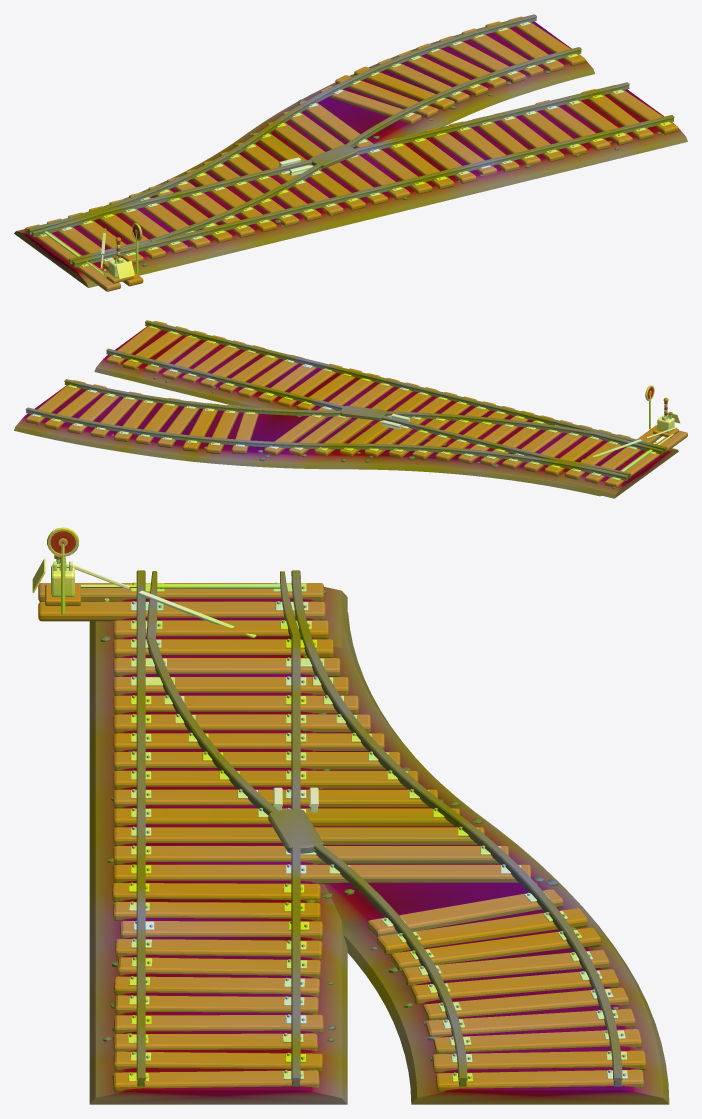
Rendered from Track_Switch_20m_B.fbx.
The picture shows the model from 3 angles, top to bottom: view 1: azimuth 30°, elevation 25°; view 2: azimuth 150°, elevation 25°; view 3: azimuth 270°, elevation 25°; orthographic projection. The views are drawn at different scales.
Visible parts, largest first — view 1: Track_Switch_20m_B, Blade_S; view 2: Track_Switch_20m_B, Blade_D, Broken_Bits; view 3: Track_Switch_20m_B, Broken_Bits, Switch_Target.
Boxes of the visible parts, x1,y1,x2,y2 form: Track_Switch_20m_B: [14, 14, 687, 291]; Blade_S: [32, 210, 105, 237]; Track_Switch_20m_B: [14, 320, 687, 498]; Blade_D: [593, 432, 663, 454]; Broken_Bits: [581, 411, 680, 460]; Track_Switch_20m_B: [38, 561, 669, 1104]; Broken_Bits: [32, 558, 256, 637]; Switch_Target: [47, 527, 78, 614].
Size of the model in its own units: 20 by 1.96 by 10.61.
